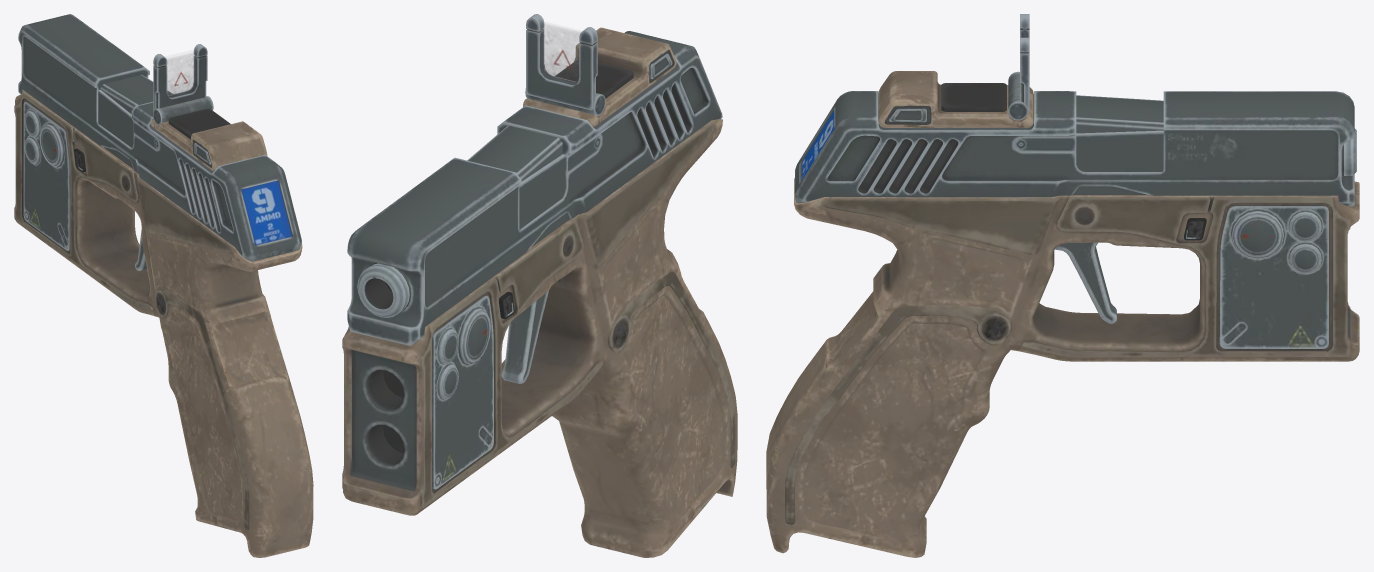
The picture shows the model from 3 angles, left to right: view 1: azimuth 30°, elevation 25°; view 2: azimuth 150°, elevation 25°; view 3: azimuth 270°, elevation 25°; orthographic projection. The views are drawn at different scales.
Visible parts, largest first — view 1: lozha_low.004, zatvor_low.004, picel1_low.004, picel4_low.004, knopka2_low.004, patronnik_low.004, stenka_low.004, picel5_low.004, picel2_low.004, picel3_low.004; view 2: lozha_low.004, zatvor_low.004, picel1_low.004, picel4_low.004, patronnik_low.004, knopka2_low.004, stvol_low.004, kurok_low.004, stenka_low.004, picel5_low.004, picel2_low.004, knopka3_low.004 (+1 smaller); view 3: lozha_low.004, zatvor_low.004, picel1_low.004, knopka2_low.004, stenka_low.004, patronnik_low.004, kurok_low.004, picel2_low.004, knopka3_low.004, picel4_low.004.
Part boxes in pixels (x1,y1,x2,y2): lozha_low.004: (14, 89, 313, 557); zatvor_low.004: (18, 14, 301, 261); picel1_low.004: (151, 112, 267, 171); picel4_low.004: (153, 44, 207, 110); knopka2_low.004: (24, 110, 63, 166); patronnik_low.004: (100, 75, 172, 113); stenka_low.004: (98, 89, 133, 147); picel5_low.004: (167, 51, 195, 96); picel2_low.004: (168, 109, 230, 139); picel3_low.004: (153, 96, 213, 125); lozha_low.004: (342, 119, 737, 557); zatvor_low.004: (347, 31, 722, 345); picel1_low.004: (523, 27, 676, 127); picel4_low.004: (526, 14, 597, 110); patronnik_low.004: (467, 125, 562, 181); knopka2_low.004: (437, 308, 490, 399); stvol_low.004: (357, 263, 411, 317); kurok_low.004: (501, 291, 548, 383); stenka_low.004: (519, 154, 565, 229); picel5_low.004: (542, 23, 581, 82); picel2_low.004: (555, 59, 633, 98); knopka3_low.004: (565, 134, 601, 173); lozha_low.004: (766, 178, 1359, 557); zatvor_low.004: (795, 91, 1354, 206); picel1_low.004: (878, 71, 1033, 127); knopka2_low.004: (1232, 210, 1321, 273); stenka_low.004: (1076, 130, 1163, 171); patronnik_low.004: (1076, 95, 1163, 133); kurok_low.004: (1055, 242, 1116, 323); picel2_low.004: (941, 83, 1006, 111); knopka3_low.004: (1013, 137, 1076, 151); picel4_low.004: (1020, 14, 1029, 111).
Bounding box in the file's own units: 0.0377 × 0.2305 × 0.24.
1 material, 1 textured.
